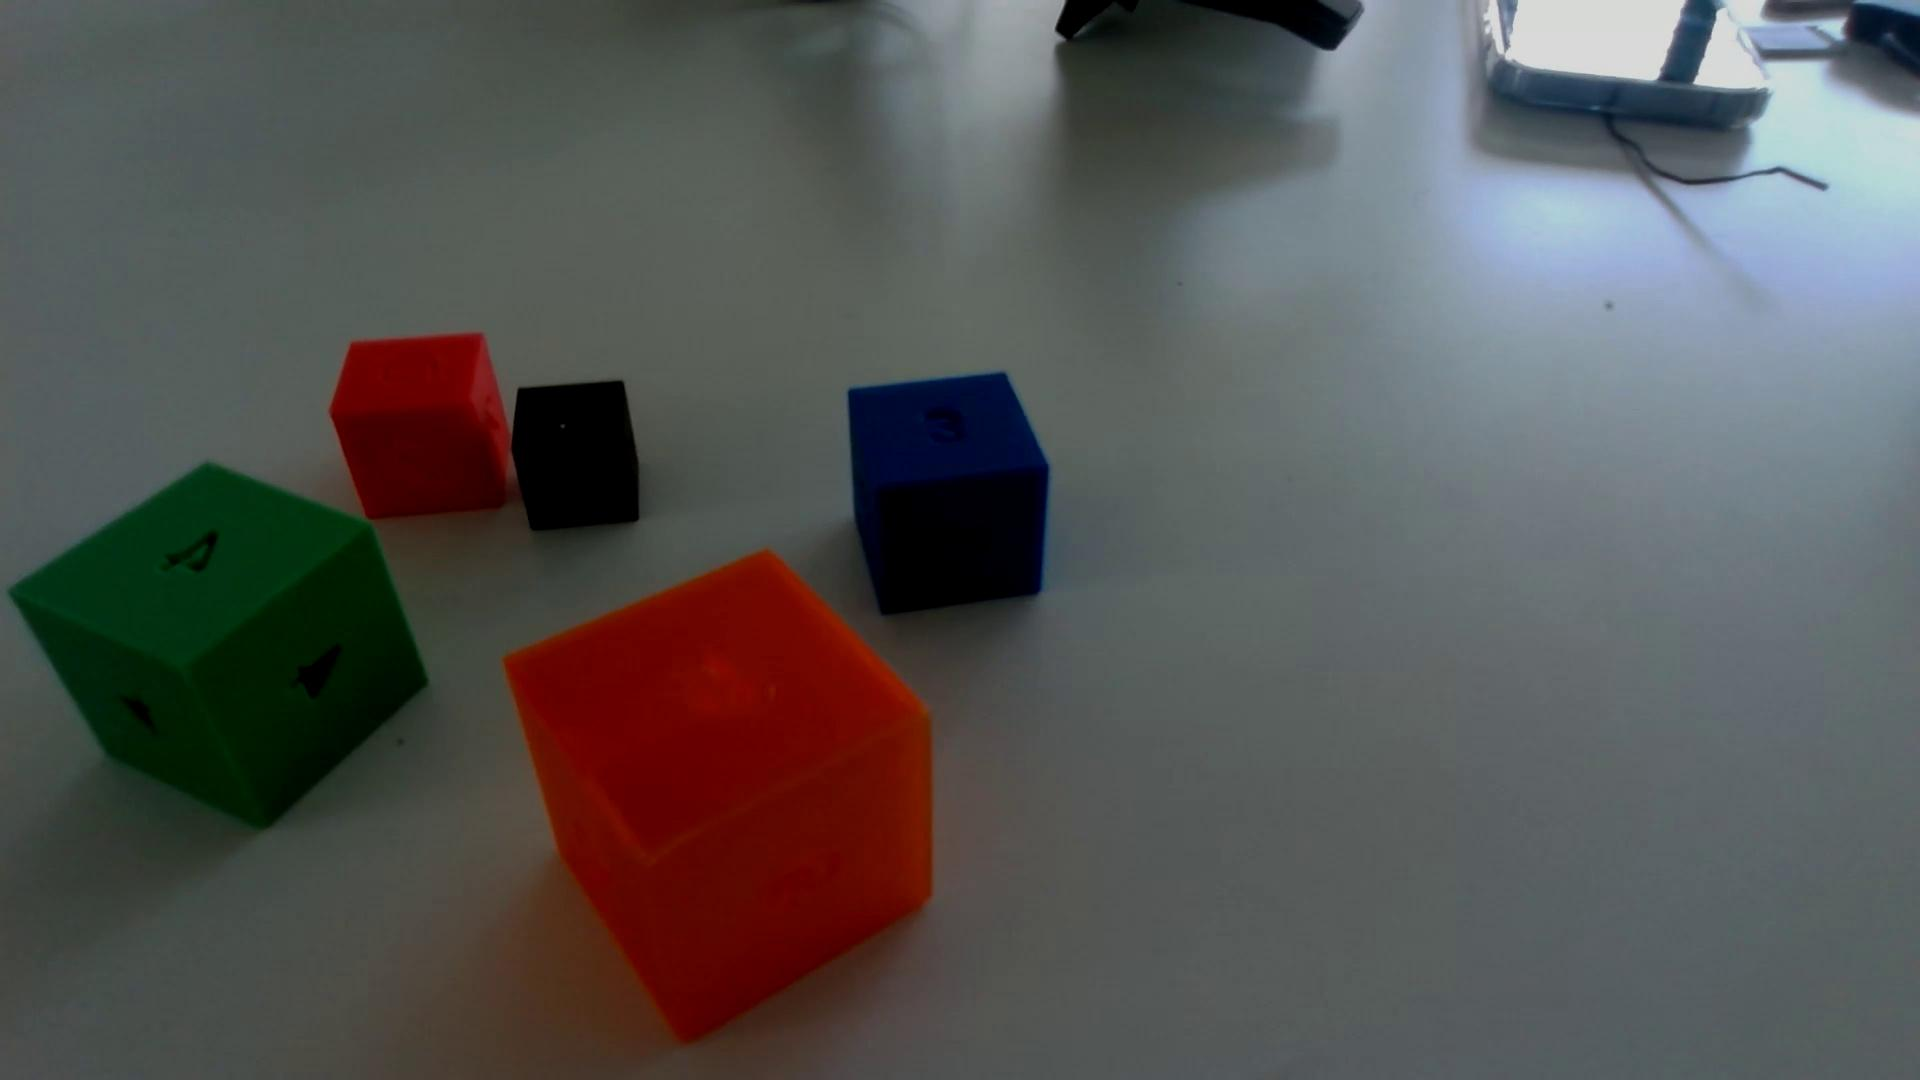black: (512, 381, 640, 531)
blue: (847, 373, 1048, 615)
green: (11, 465, 427, 829)
orange: (506, 553, 934, 1042)
red: (330, 334, 512, 520)
